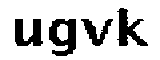g: (48, 16, 77, 60)
k: (116, 3, 150, 51)
u: (9, 12, 44, 51)
v: (81, 16, 113, 47)
